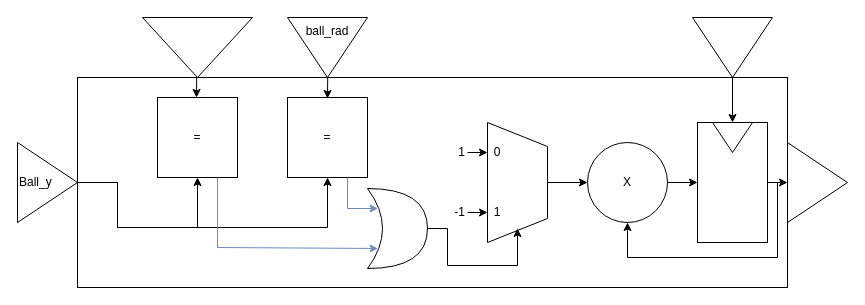
Some shapes in this 865 by 305 pixel diagram are drawn without their labels. The centre of each missing label's shape, as x and y in pixels:
719-ball_rad: point 197,47
dy: point 817,182
Pclk: point 732,47
